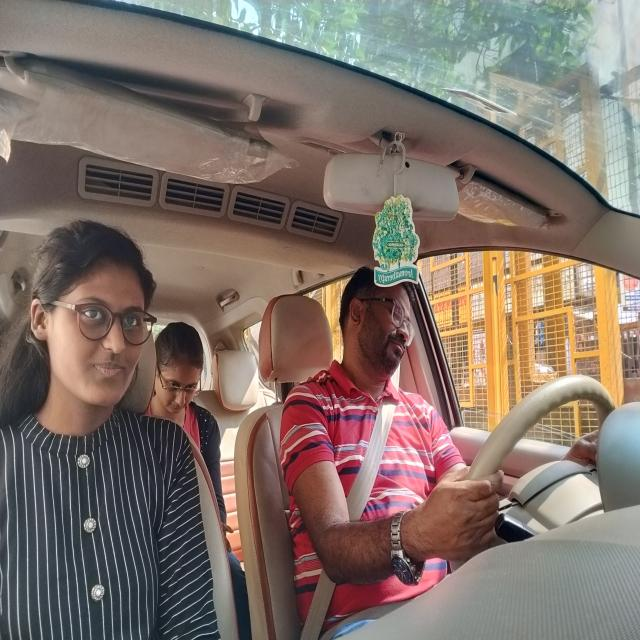drowsy: (341, 253, 421, 414)
person: (20, 202, 162, 454), (154, 292, 211, 423)
